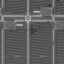dust: (47, 4, 51, 7), (30, 31, 34, 34), (30, 27, 33, 30), (34, 29, 37, 32)
